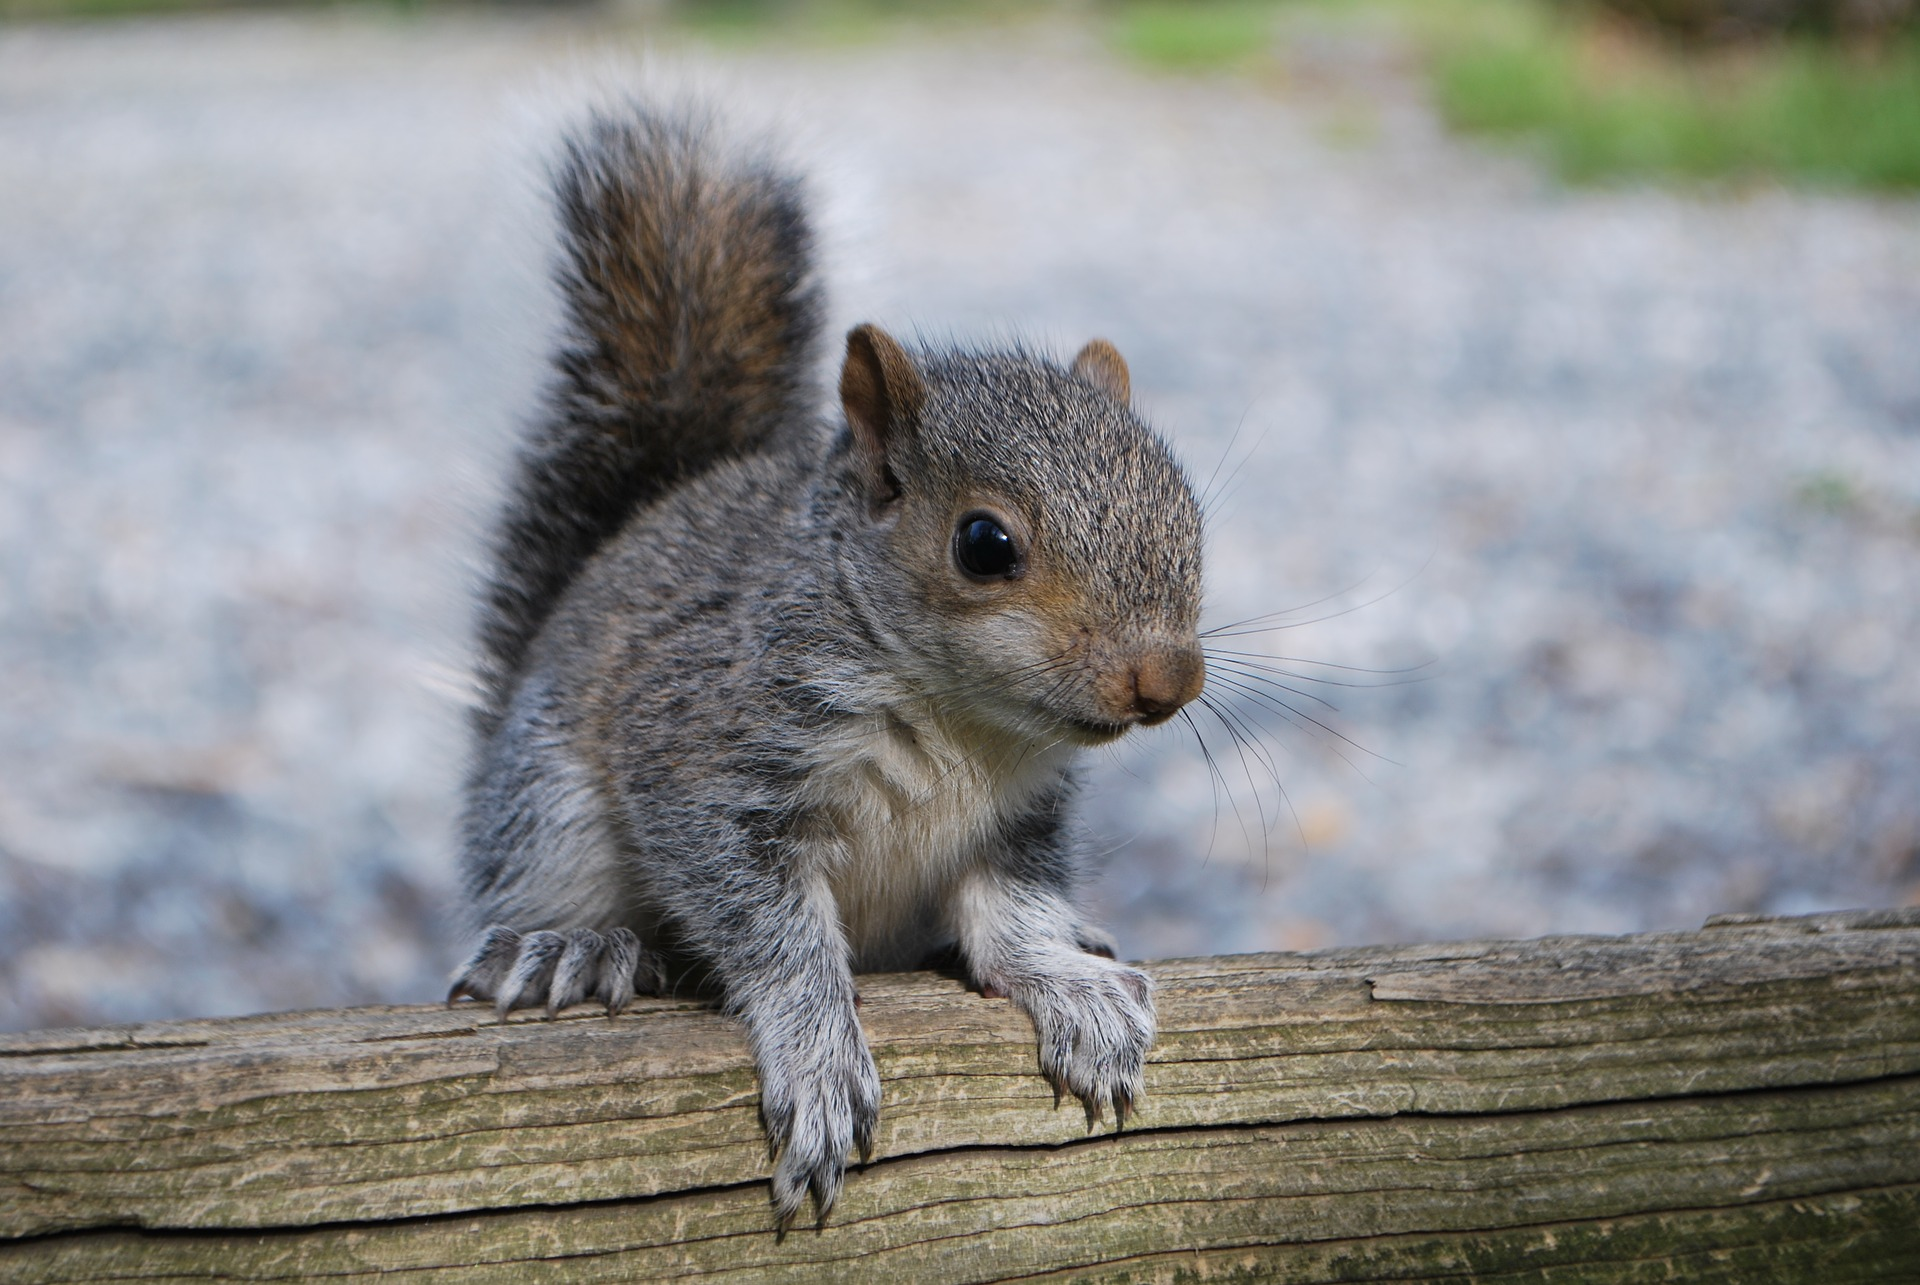squirrel: (437, 59, 1273, 1285)
